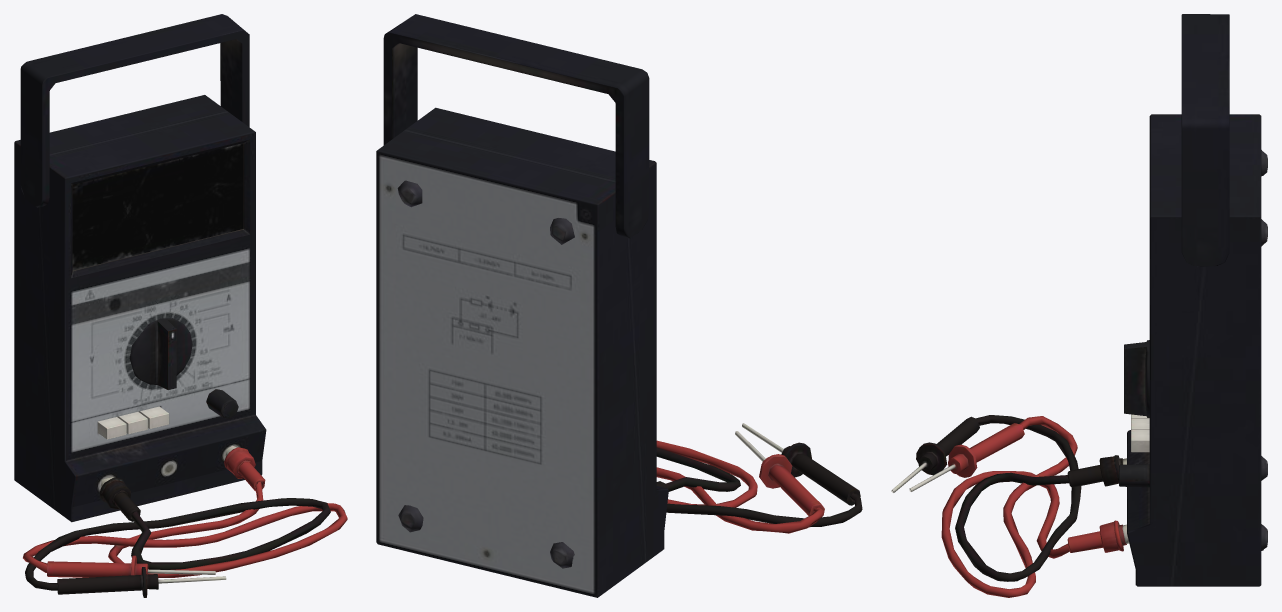
The model's file is tracker.glb.
3 renders of one model, left to right at view 1: azimuth 30°, elevation 25°; view 2: azimuth 150°, elevation 25°; view 3: azimuth 270°, elevation 25°, orthographic. The views are drawn at different scales.
Size of the model in its own units: 0.2156 by 0.2786 by 0.2024.
2 materials, 2 textured.
